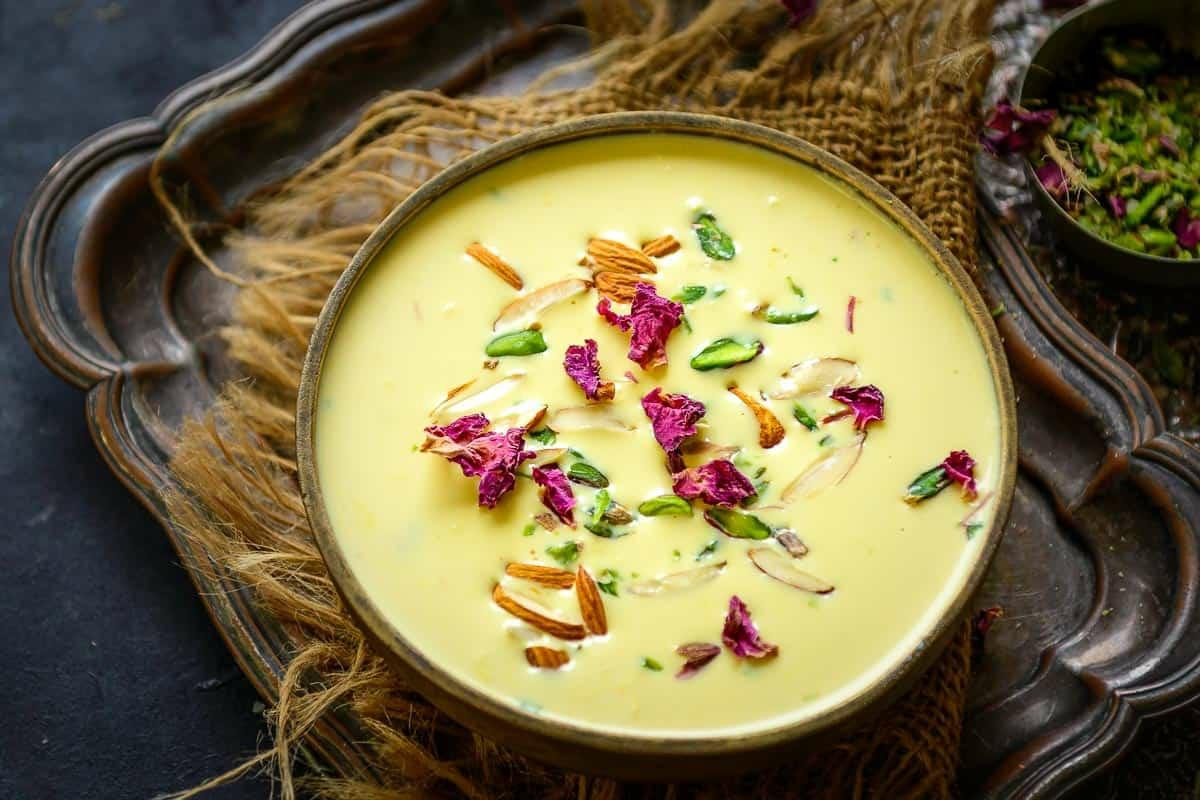Kheer: (322, 136, 1005, 735)
